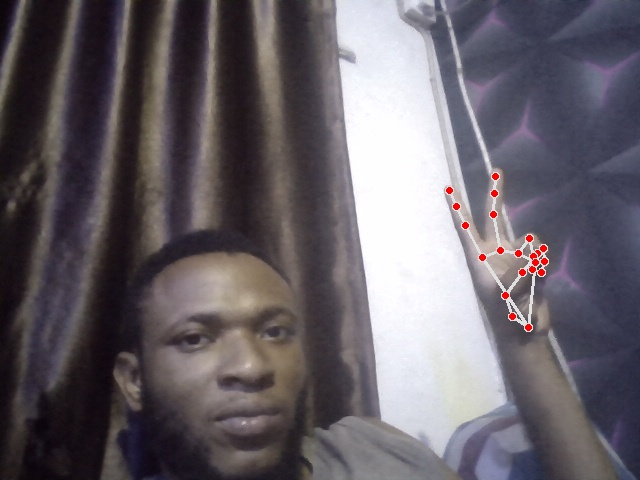peace: (444, 167, 553, 340)
